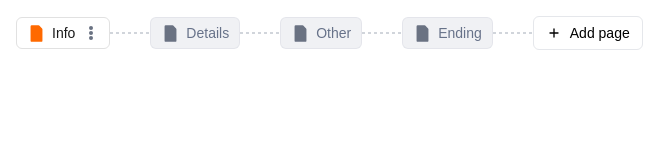
Test case: PageNavigationContainer › Hover Add Button Integration › should show hover add buttons in gaps between pages
This screenshot has width=660, height=160.
Hover over the 5th element with class "items-center".
mouse_move(130, 33)  # box [110, 32, 150, 34]
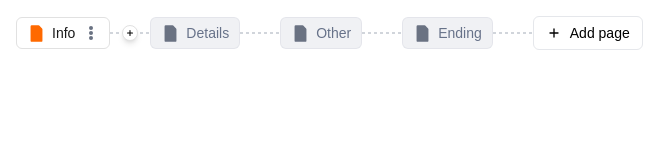
expect the button named "Add page after position 0" is shown: met, box [122, 25, 138, 41]
